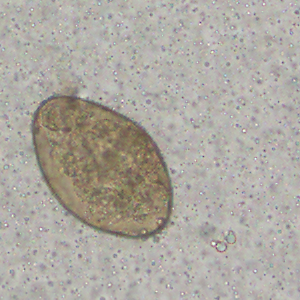Fasciola_hepatica_egg: (31, 93, 174, 240)
